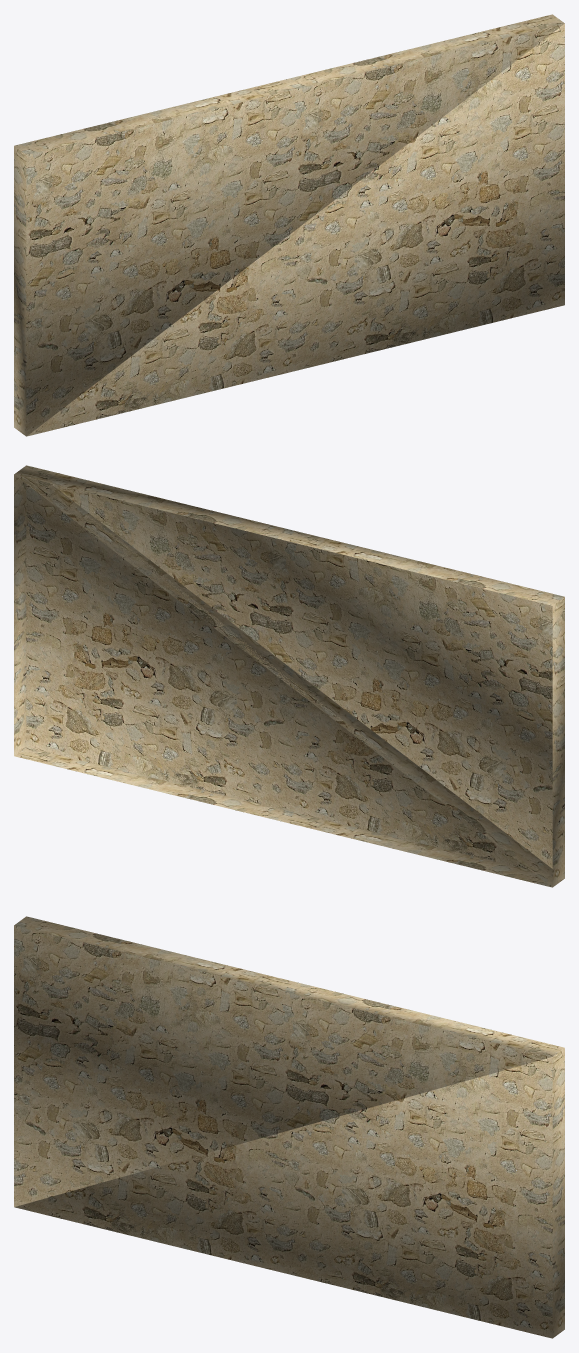
The model's file is room_wall_unbroken.obj.
3 views of the same model, one above another, from view 1: azimuth 30°, elevation 25°; view 2: azimuth 150°, elevation 25°; view 3: azimuth 330°, elevation 25° (orthographic).
Visible parts, largest first — view 1: room_wall_unbroken.obj; view 2: room_wall_unbroken.obj; view 3: room_wall_unbroken.obj.
Part boxes in pixels (x1=…): room_wall_unbroken.obj: x1=14, y1=14, x2=564, y2=436; room_wall_unbroken.obj: x1=14, y1=465, x2=564, y2=887; room_wall_unbroken.obj: x1=14, y1=916, x2=564, y2=1338.
Bounding box in the file's own units: 1 × 0.5 × 0.04.
